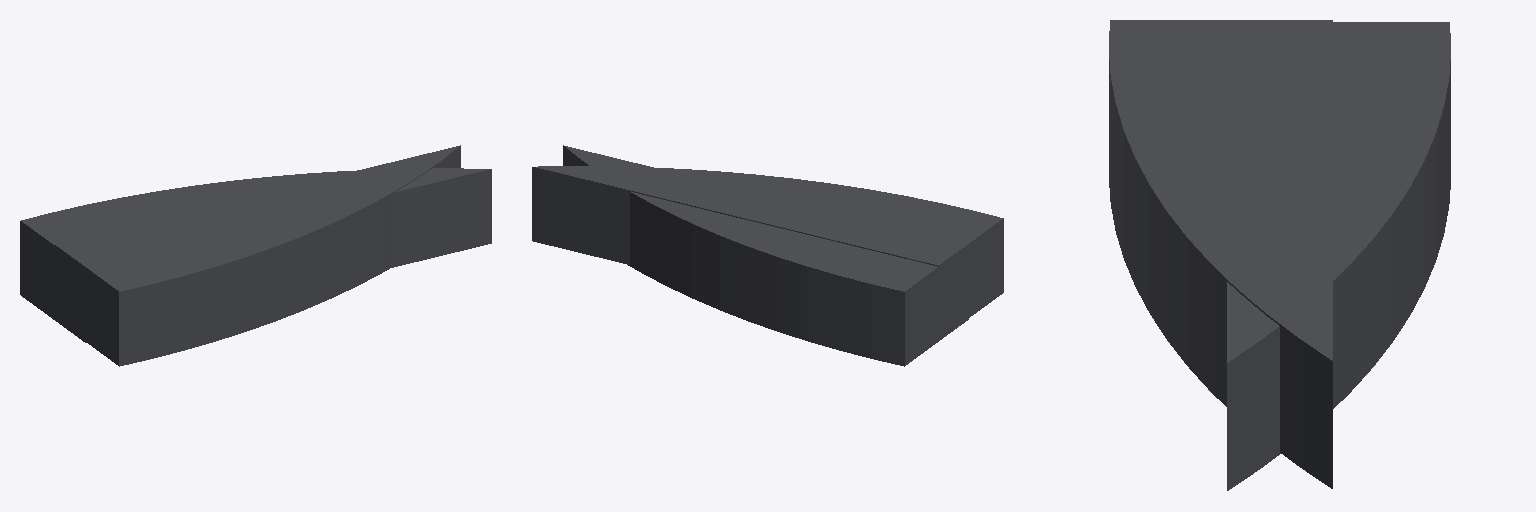
The robot description file, URDF, robot "fetch_gripper":
<?xml version='1.0' encoding='ASCII'?>
<robot name="fetch_gripper">
    <link name="base_link"/>

    <joint name="base_link_joint" type="fixed">
        <origin rpy="0 0 0" xyz = "-0.1 0 0"/>
        <parent link="base_link"/>
        <child link="gripper_link"/>
    </joint>

    <link name="gripper_link">
        <inertial>
            <origin rpy="0 0 0" xyz="-0.0900 -0.0001 -0.0017" /> <!-- May require change!-->
            <mass value="1.5175" />
            <inertia ixx="0.0013" ixy="-0.0" ixz="0.0" iyy="0.0019" iyz="-0.0" izz="0.0024" />
        </inertial>
        <visual>
            <origin rpy="0 0 0" xyz="0 0 0" /> 
            <geometry>
                <mesh filename="./meshes/gripper_link.dae" />
            </geometry>
        </visual>
        <collision>
            <origin rpy="0 0 0" xyz="0 0 0" />
            <geometry>
                <mesh filename="./meshes/gripper_link.STL" />
            </geometry>
        </collision>
    </link>

    <link name="r_gripper_finger_link">
        <inertial>
        <origin rpy="0 1.5708 0" xyz="-0.01 0 0" />
        <mass value="0.0798" />
        <inertia ixx="0.002" ixy="0" ixz="0" iyy="0" iyz="0" izz="0" />
        </inertial>
        <visual>
        <origin rpy="0 1.5708 0" xyz="-0.035 -0.005 0" /><!-- Should Change to 0 0 0 and edit the joint!-->
        <geometry>
            <mesh filename="./meshes/fingers/simplified_1/r_finger.stl" />
        </geometry>
        <material name="">
            <color rgba="0.356 0.361 0.376 1" />
        </material>
        </visual>
        <collision>
        <origin rpy="0 1.5708 0" xyz="-0.035 -0.005 0" />
        <geometry>
            <mesh filename="./meshes/fingers/simplified_1/r_finger.stl" />
        </geometry>
        </collision>
    </link>

    <joint name="r_gripper_finger_joint" type="prismatic">
        <origin rpy="0 0 0" xyz="0 0.015425 0" />
        <parent link="gripper_link" />
        <child link="r_gripper_finger_link" />
        <axis xyz="0 1 0" />
    <limit effort="60" lower="0.0" upper="0.05" velocity="0.05" /><dynamics damping="100.0" /></joint>


    <link name="l_gripper_finger_link">
        <inertial>
        <origin rpy="0 1.5708 0" xyz="-0.01 0 0" />
        <mass value="0.0798" />
        <inertia ixx="0.002" ixy="0" ixz="0" iyy="0" iyz="0" izz="0" />
        </inertial>
        <visual>
        <origin rpy="0 1.5708 0" xyz="-0.035 0.005 0" />
        <geometry>
            <mesh filename="./meshes/fingers/simplified_1/l_finger.stl" />
        </geometry>
        <material name="">
            <color rgba="0.356 0.361 0.376 1" />
        </material>
        </visual>
        <collision>
        <origin rpy="0 1.5708 0" xyz="-0.035 0.005 0" />
        <geometry>
            <mesh filename="./meshes/fingers/simplified_1/l_finger.stl" />
        </geometry>
        </collision>
    </link>
    <joint name="l_gripper_finger_joint" type="prismatic">
        <origin rpy="0 0 0" xyz="0 -0.015425 0" />
        <parent link="gripper_link" />
        <child link="l_gripper_finger_link" />
        <axis xyz="0 -1 0" />
    <limit effort="60" lower="0.0" upper="0.05" velocity="0.05" /><dynamics damping="100.0" /></joint>

</robot>

--- Facts derived from the render (not from the file) ---
The picture shows the robot from 3 angles, left to right: view 1: azimuth 30°, elevation 25°; view 2: azimuth 150°, elevation 25°; view 3: azimuth 270°, elevation 25°; orthographic projection.
Model fetch_gripper with 4 links and 3 joints (2 prismatic, 1 fixed), rooted at base_link, posed every joint at zero.
Visible links, largest first — view 1: l_gripper_finger_link, r_gripper_finger_link; view 2: r_gripper_finger_link, l_gripper_finger_link; view 3: l_gripper_finger_link, r_gripper_finger_link.
Boxes of the visible links, x1,y1,x2,y2 form: l_gripper_finger_link: (55,145,460,366); r_gripper_finger_link: (20,168,491,342); r_gripper_finger_link: (563,145,968,366); l_gripper_finger_link: (532,166,1003,325); l_gripper_finger_link: (1109,20,1332,488); r_gripper_finger_link: (1227,22,1450,490).
Bounding box of the posed robot: 0.1467 × 0.0623 × 0.0262 m (x, y, z).
Meshes: 3 distinct files referenced, 2 mesh visuals loaded (2 binary STL); not drawn: 1 (reference not matched to a file when rendering).